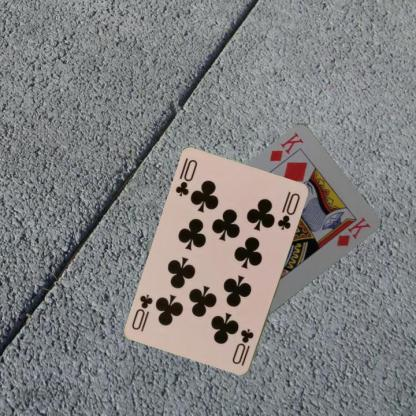10c: (173, 156, 199, 198), (230, 326, 256, 367)
Kd: (266, 130, 305, 172)
